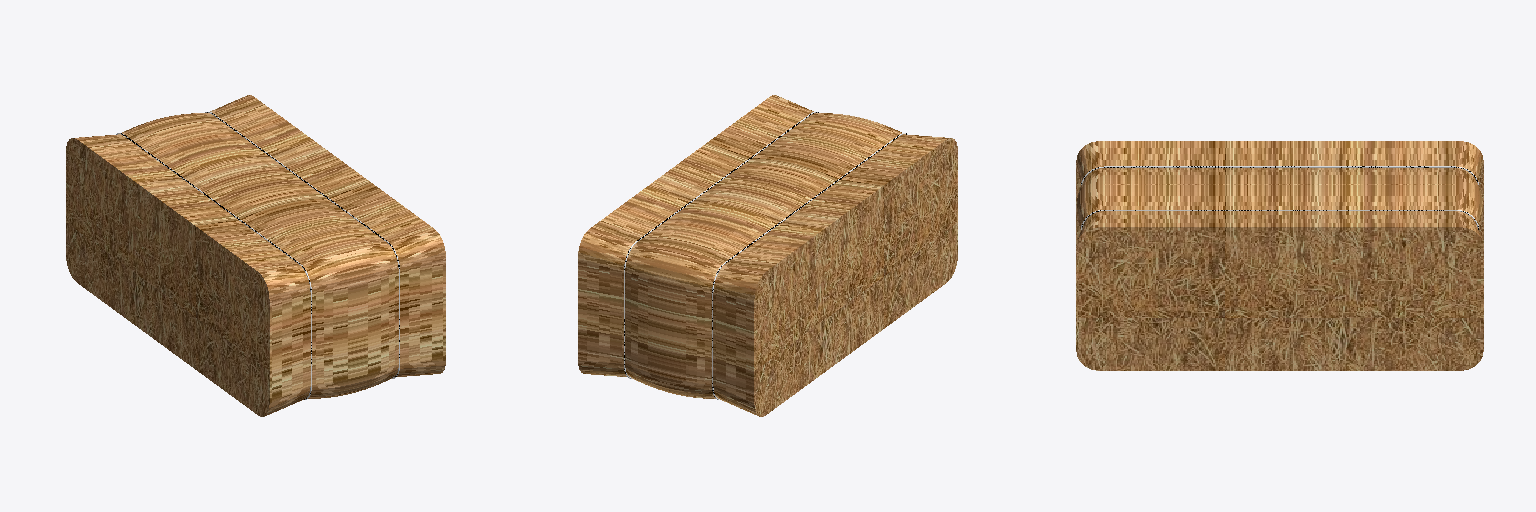
3 views of the same model, side by side, from view 1: azimuth 30°, elevation 25°; view 2: azimuth 150°, elevation 25°; view 3: azimuth 270°, elevation 25° (orthographic).
Parts seen in each view (by area): view 1: group6 group5 group4 group1 group2 group3 download_mid_1b59bf6e7; view 2: group6 group5 group4 group1 group2 group3 download_mid_1b59bf6e7; view 3: group6 group5 group4 group1 group2 group3 download_mid_1b59bf6e7, group_0 group6 group5 group4 group1 group2 group3 download_mid_1.
Part boxes in pixels (bbox=[...]): group6 group5 group4 group1 group2 group3 download_mid_1b59bf6e7: bbox=[66, 95, 445, 416]; group6 group5 group4 group1 group2 group3 download_mid_1b59bf6e7: bbox=[578, 95, 957, 416]; group6 group5 group4 group1 group2 group3 download_mid_1b59bf6e7: bbox=[1076, 141, 1483, 370]; group_0 group6 group5 group4 group1 group2 group3 download_mid_1: bbox=[1081, 166, 1478, 184].
Bounding box in the file's own units: 0.6281 × 0.4885 × 1.26.
3 materials, 1 textured.